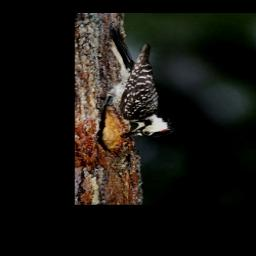Woodpecker: (96, 27, 179, 140)
